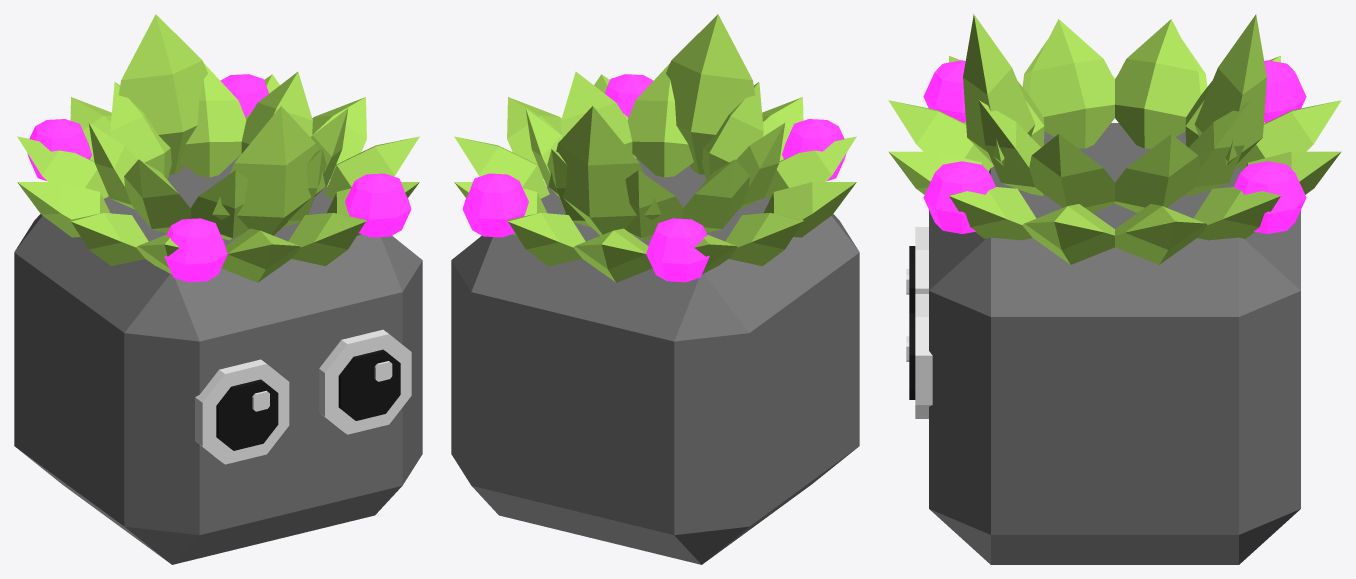
The model's file is Berry.fbx.
The picture shows the model from 3 angles, left to right: view 1: azimuth 30°, elevation 25°; view 2: azimuth 150°, elevation 25°; view 3: azimuth 270°, elevation 25°; orthographic projection. The views are drawn at different scales.
Visible parts, largest first — view 1: Berry, Berry_Leaves, Berry_Eyes, Berry_Berries, Berry_Pupils; view 2: Berry, Berry_Leaves, Berry_Berries; view 3: Berry, Berry_Leaves, Berry_Berries, Berry_Eyes, Berry_Pupils.
Part boxes in pixels (x1,y1,x2,y2): Berry: (14, 158, 422, 564); Berry_Leaves: (17, 14, 419, 282); Berry_Eyes: (195, 329, 411, 464); Berry_Berries: (27, 74, 411, 282); Berry_Pupils: (216, 349, 400, 450); Berry: (451, 158, 859, 564); Berry_Leaves: (454, 14, 856, 282); Berry_Berries: (462, 74, 846, 282); Berry: (929, 123, 1300, 564); Berry_Leaves: (888, 14, 1341, 264); Berry_Berries: (923, 60, 1306, 233); Berry_Eyes: (906, 227, 932, 418); Berry_Pupils: (909, 246, 915, 399).
Size of the model in its own units: 2.34 by 2.82 by 2.34.
